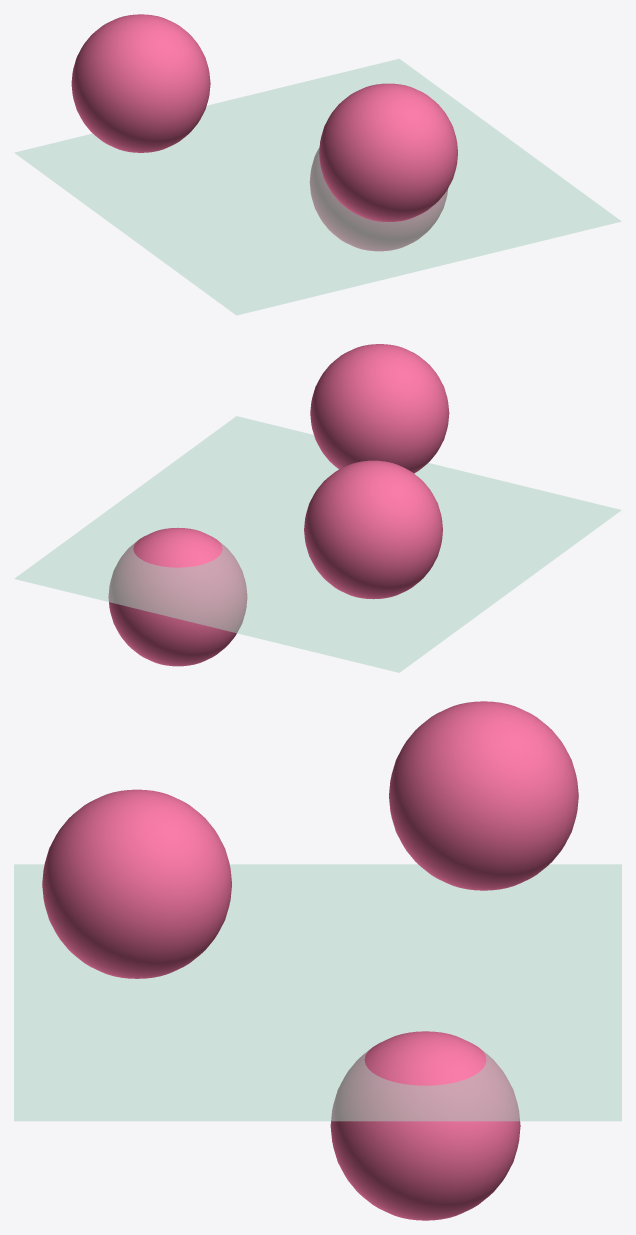
The model's file is Custom3DConcept.glb.
The picture shows the model from 3 angles, top to bottom: view 1: azimuth 30°, elevation 25°; view 2: azimuth 150°, elevation 25°; view 3: azimuth 270°, elevation 25°; orthographic projection. The views are drawn at different scales.
Size of the model in its own units: 8 by 5.19 by 8.
